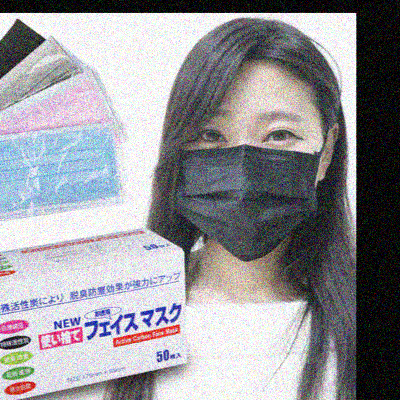with_mask: (172, 104, 328, 263)
